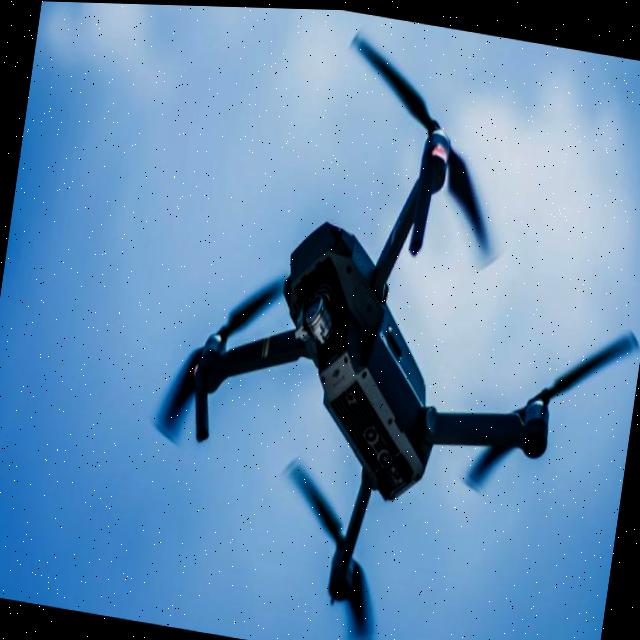drone: (117, 29, 640, 640)
